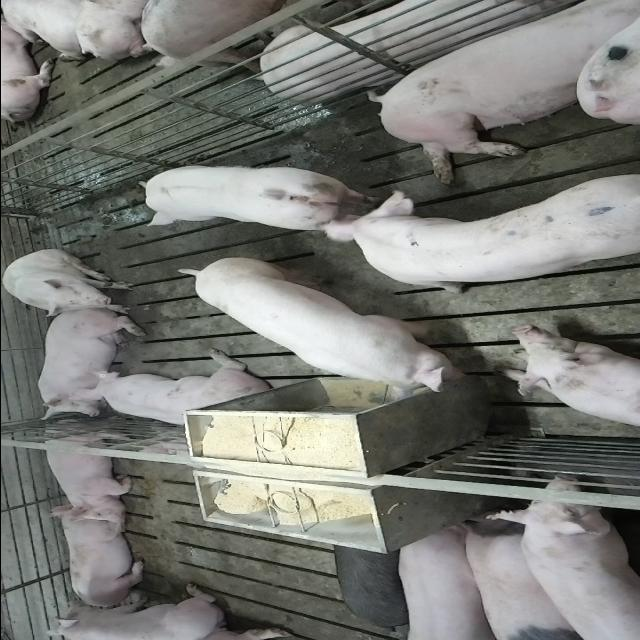Feeding: (165, 262, 476, 406)
Lateral_lying: (362, 4, 636, 186), (260, 0, 580, 102)
Sitting: (3, 250, 138, 318)
Standing: (316, 182, 640, 298), (489, 476, 638, 638), (134, 159, 378, 231), (448, 515, 588, 637), (140, 0, 350, 71), (392, 522, 502, 637), (326, 528, 414, 636)
Sternal_lying: (500, 330, 640, 434), (84, 356, 274, 430), (28, 314, 136, 418), (37, 585, 227, 637), (52, 509, 150, 608), (37, 424, 135, 522)
